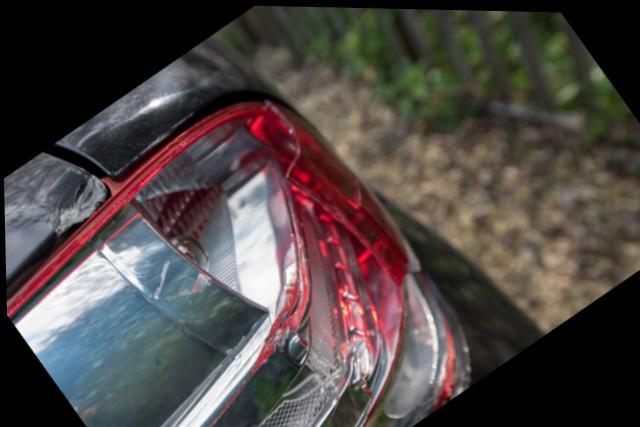dent: (28, 167, 104, 229)
lamp broken: (5, 97, 459, 427)
